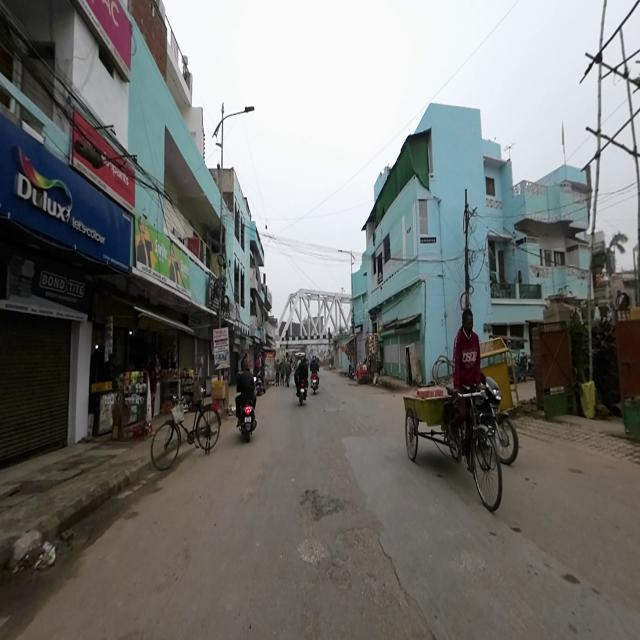Garbage: (19, 542, 63, 574), (543, 380, 572, 421), (624, 386, 640, 451)
